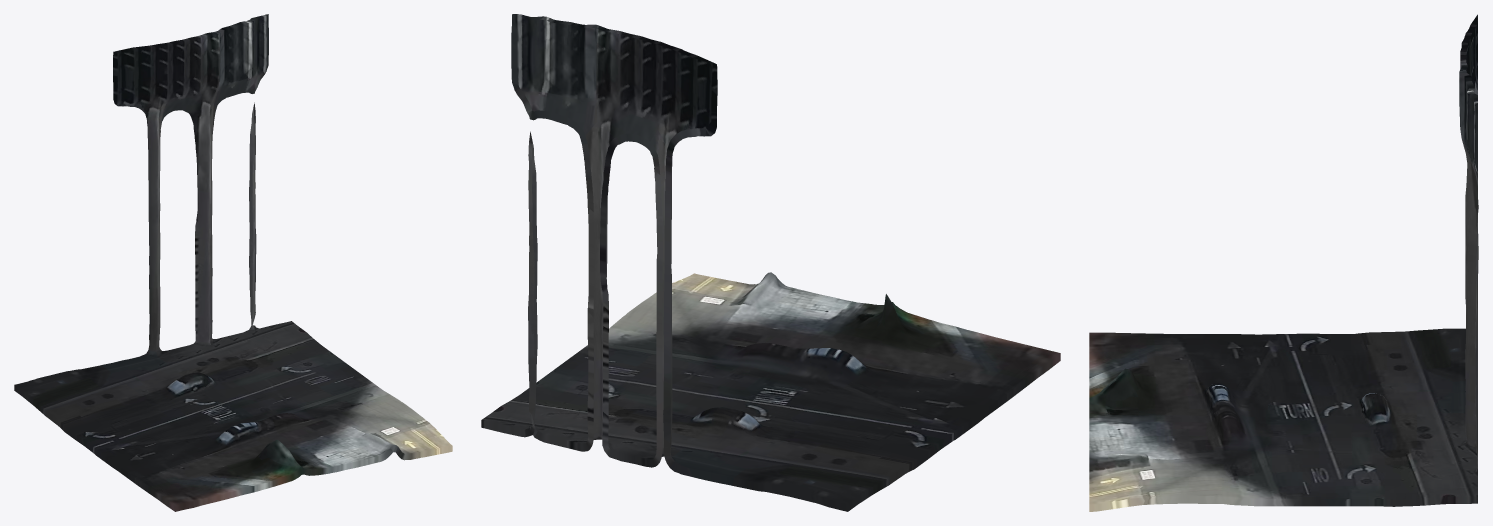
File: z20-167779-405230-h0-yup-uvflip-v3-world.glb
The picture shows the model from 3 angles, left to right: view 1: azimuth 30°, elevation 25°; view 2: azimuth 150°, elevation 25°; view 3: azimuth 270°, elevation 25°; orthographic projection. The views are drawn at different scales.
Bounding box in the file's own units: 30.16 × 33.8 × 30.36.
1 material, 1 textured.
